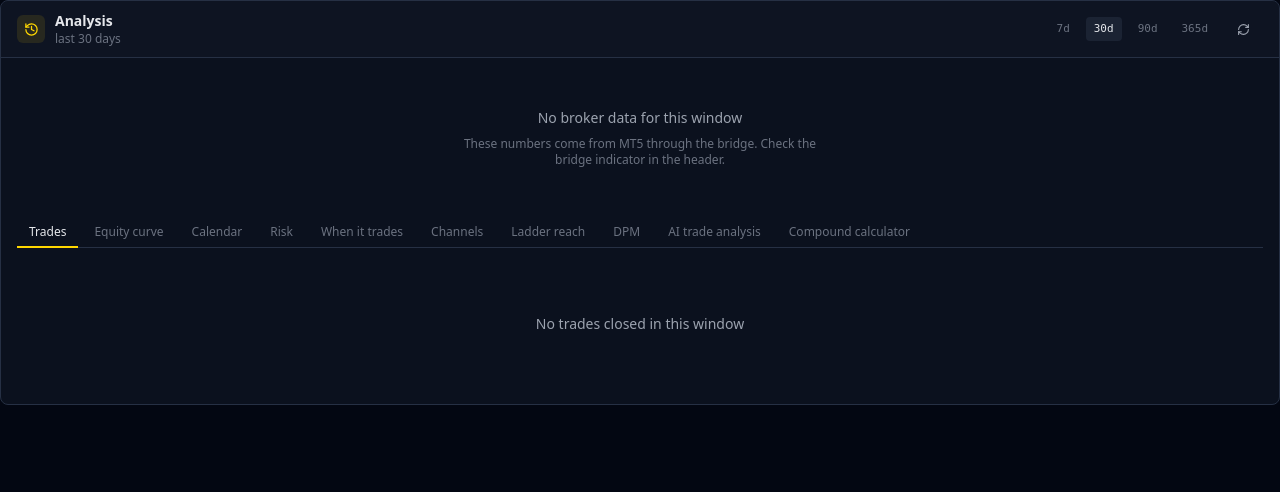
Test: the headline numbers › still shows the local panels when the broker cannot answer
Check: the text "No broker data for this window" is shown, box [538,108,742,128]
Click the tab "When it trades". click: (362,233)
box: [309,218,415,248]
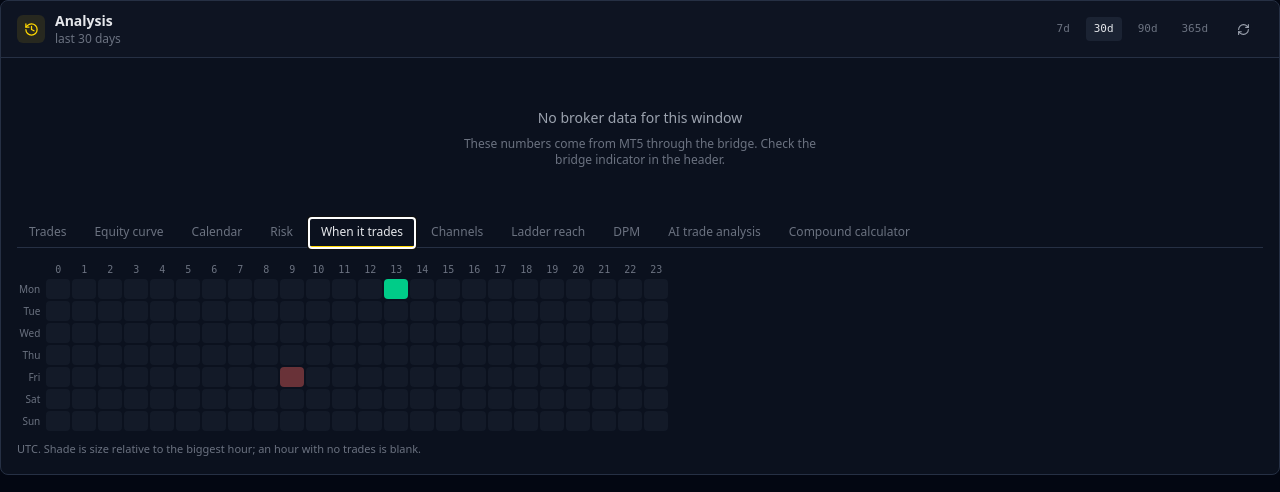
Check: the cell with test id "cell-0-13" is shown, box [384,279,408,299]
